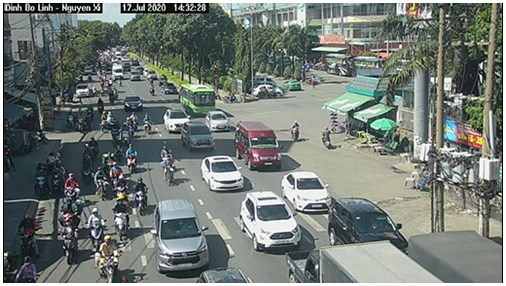xe_buyt: (179, 83, 218, 118)
xe_hoi: (329, 198, 410, 262), (151, 198, 209, 271), (238, 191, 302, 252), (281, 170, 333, 214), (199, 155, 245, 193), (180, 121, 215, 154), (162, 108, 193, 134), (204, 110, 231, 133), (124, 95, 144, 113), (87, 137, 100, 159), (161, 81, 177, 97)
xe_khach: (234, 120, 281, 171)
xe_may: (93, 235, 124, 282), (17, 214, 43, 262), (57, 220, 80, 266), (86, 207, 108, 254), (112, 198, 133, 239), (13, 257, 40, 286), (132, 177, 150, 217), (32, 162, 50, 200), (108, 162, 126, 198), (93, 166, 109, 201), (51, 160, 67, 194), (123, 144, 139, 175), (162, 155, 177, 188), (80, 154, 94, 186), (100, 111, 119, 133), (320, 127, 334, 152), (64, 110, 77, 135), (142, 112, 154, 137), (291, 121, 300, 144), (96, 97, 104, 115), (148, 82, 157, 96)
xe_tai: (282, 251, 320, 286)
